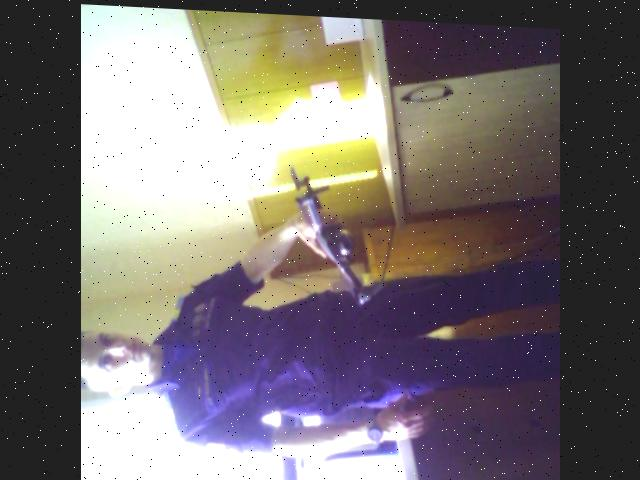drone: (274, 158, 392, 313)
